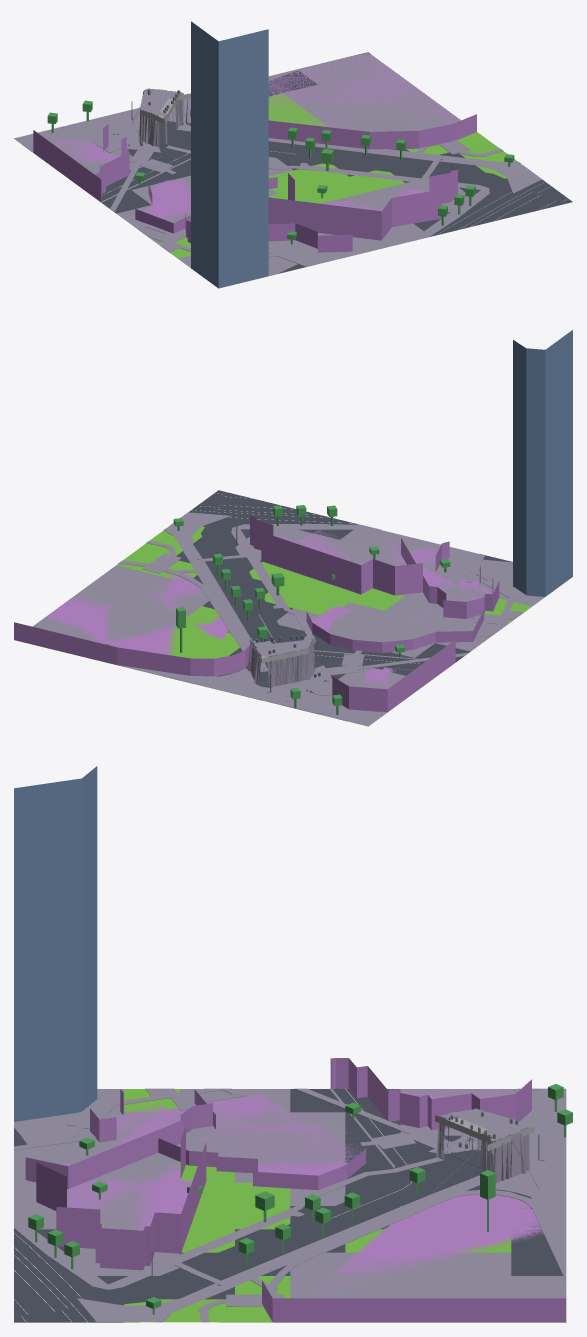
3 renders of one model, top to bottom at view 1: azimuth 30°, elevation 25°; view 2: azimuth 150°, elevation 25°; view 3: azimuth 270°, elevation 25°, orthographic. The views are drawn at different scales.
Visible parts, largest first — view 1: compiled-chunk; view 2: compiled-chunk; view 3: compiled-chunk.
Boxes of the visible parts, x1,y1,x2,y2 form: compiled-chunk: (14, 21, 572, 288); compiled-chunk: (14, 330, 572, 726); compiled-chunk: (14, 766, 572, 1322).
Bounding box in the file's own units: 120 × 79.99 × 121.
